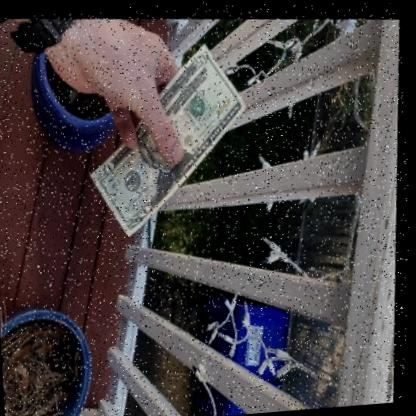twenty-front: (91, 39, 248, 235)
